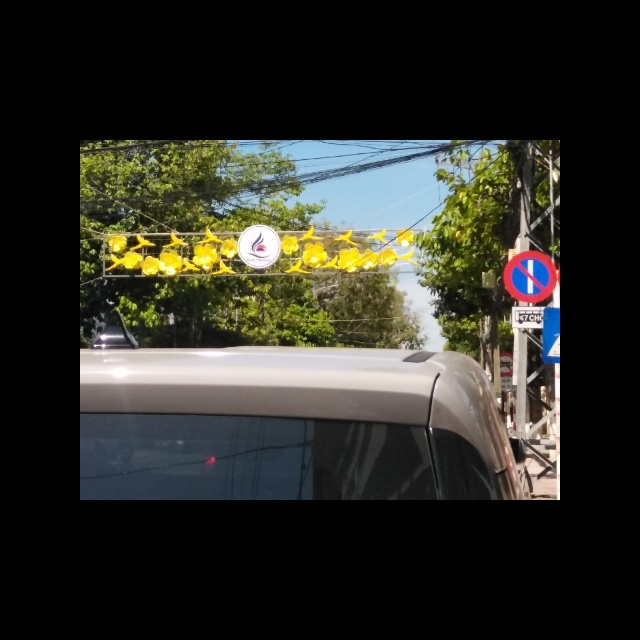Cấm đỗ xe ngày lẻ: (500, 248, 557, 303)
